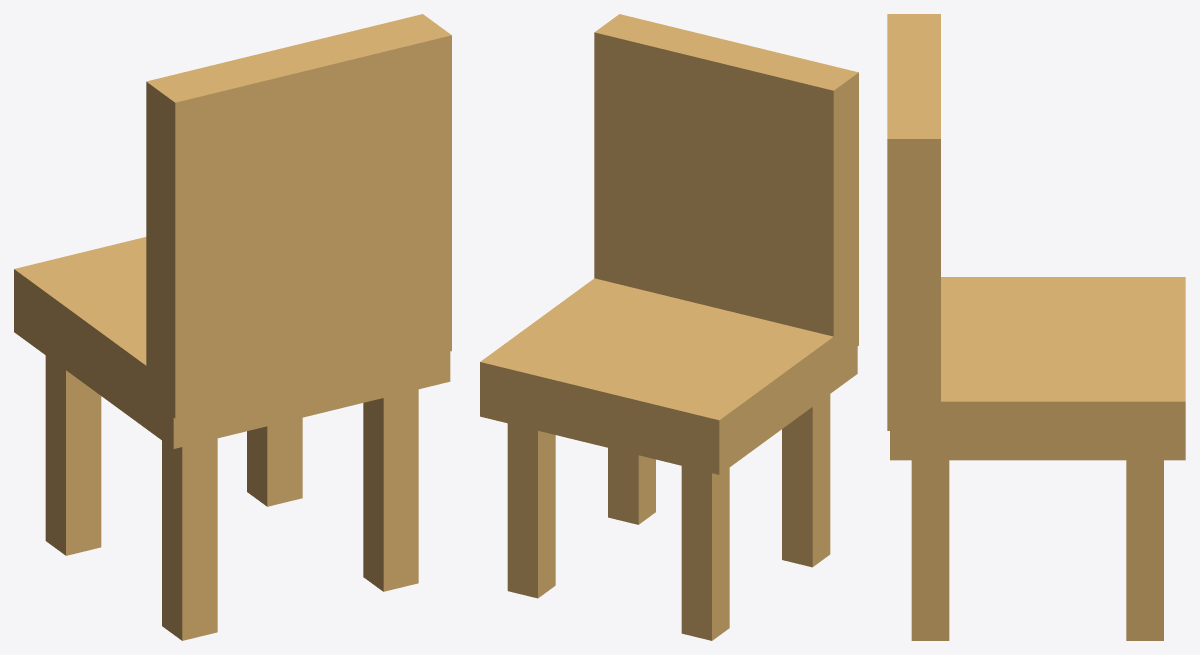
Rendered from chair.glb.
3 views of the same model, side by side, from view 1: azimuth 30°, elevation 25°; view 2: azimuth 150°, elevation 25°; view 3: azimuth 270°, elevation 25° (orthographic). The views are drawn at different scales.
Parts seen in each view (by area): view 1: _MeshInstance3D_64, _MeshInstance3D_63, _MeshInstance3D_66, _MeshInstance3D_68, _MeshInstance3D_65, _MeshInstance3D_67; view 2: _MeshInstance3D_64, _MeshInstance3D_63, _MeshInstance3D_65, _MeshInstance3D_67, _MeshInstance3D_66, _MeshInstance3D_68; view 3: _MeshInstance3D_63, _MeshInstance3D_64, _MeshInstance3D_68, _MeshInstance3D_67.
Boxes of the visible parts, <box> form: _MeshInstance3D_64: <box>146,14,451,418</box>; _MeshInstance3D_63: <box>14,237,450,448</box>; _MeshInstance3D_66: <box>162,438,217,640</box>; _MeshInstance3D_68: <box>363,389,418,591</box>; _MeshInstance3D_65: <box>45,355,101,555</box>; _MeshInstance3D_67: <box>247,417,302,506</box>; _MeshInstance3D_64: <box>594,14,858,349</box>; _MeshInstance3D_63: <box>480,278,857,474</box>; _MeshInstance3D_65: <box>681,466,729,640</box>; _MeshInstance3D_67: <box>507,423,555,598</box>; _MeshInstance3D_66: <box>782,394,830,567</box>; _MeshInstance3D_68: <box>608,448,655,524</box>; _MeshInstance3D_63: <box>890,277,1185,460</box>; _MeshInstance3D_64: <box>887,14,940,430</box>; _MeshInstance3D_68: <box>911,460,949,640</box>; _MeshInstance3D_67: <box>1126,460,1163,640</box>.
Bounding box in the file's own units: 0.55 × 1.05 × 0.555.
